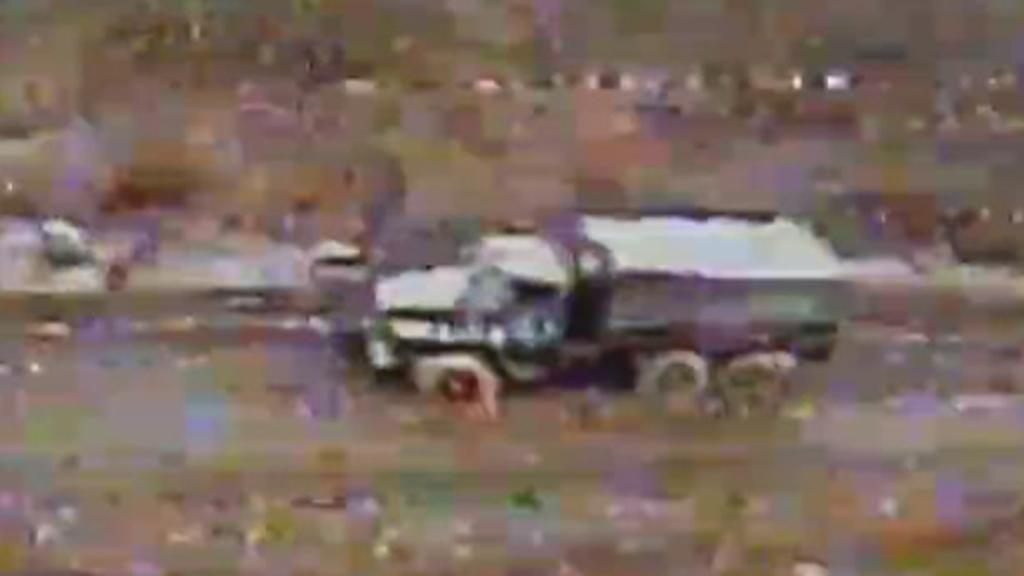TRUCK: (354, 205, 838, 432)
